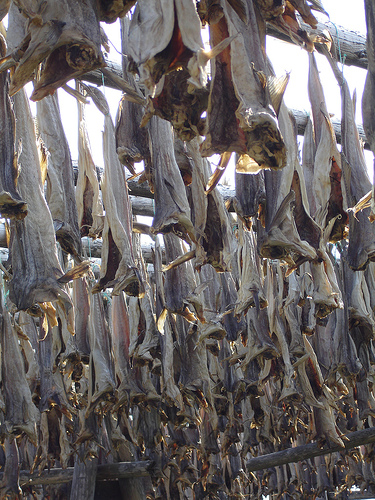fish: (317, 37, 372, 270)
